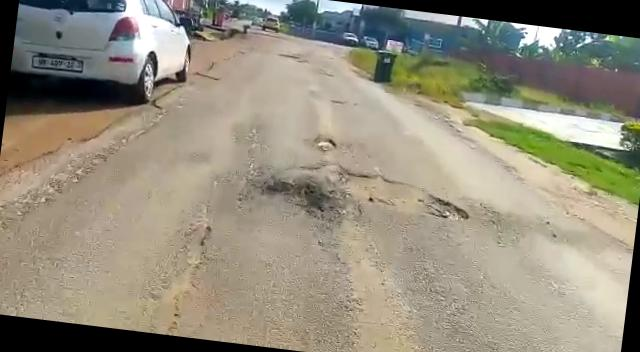pothole: (301, 160, 477, 226), (310, 132, 339, 154)
